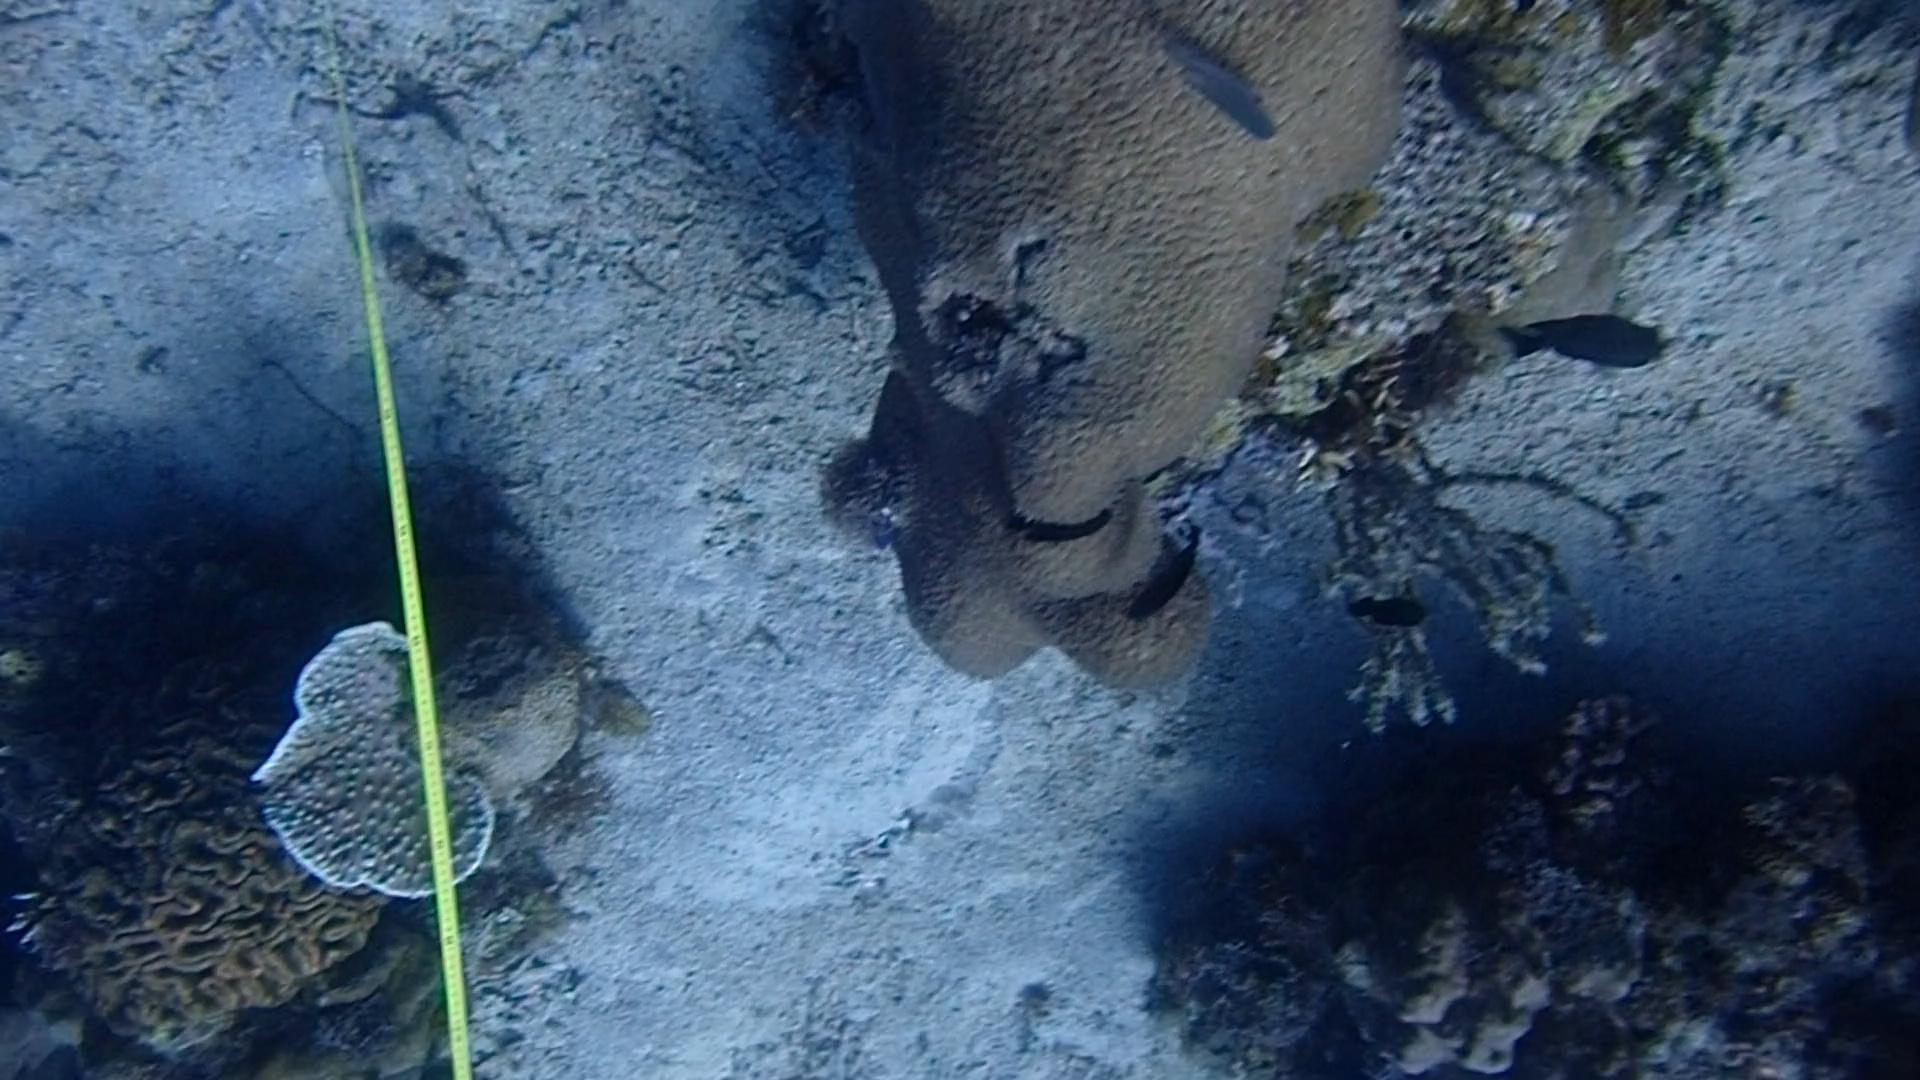Big Dark Blue Fish: (1505, 306, 1683, 390)
Dark Fish: (1114, 535, 1224, 636), (1001, 497, 1147, 558), (1332, 578, 1437, 647)
Light Fish: (1146, 17, 1294, 149)
